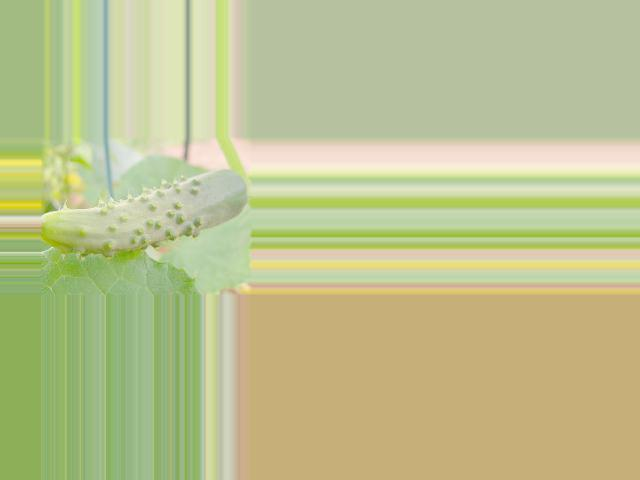cucumber: (41, 169, 248, 257)
